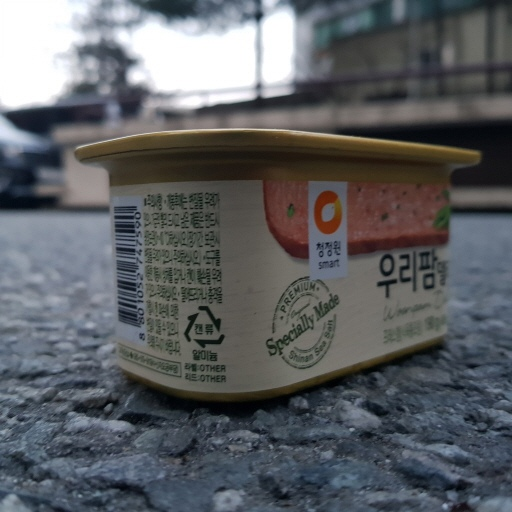Metal_2: (74, 127, 484, 392)
